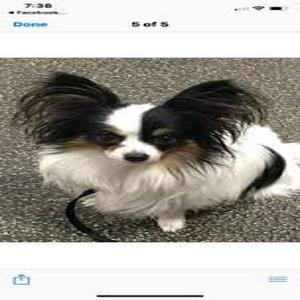yell: (16, 72, 300, 231)
